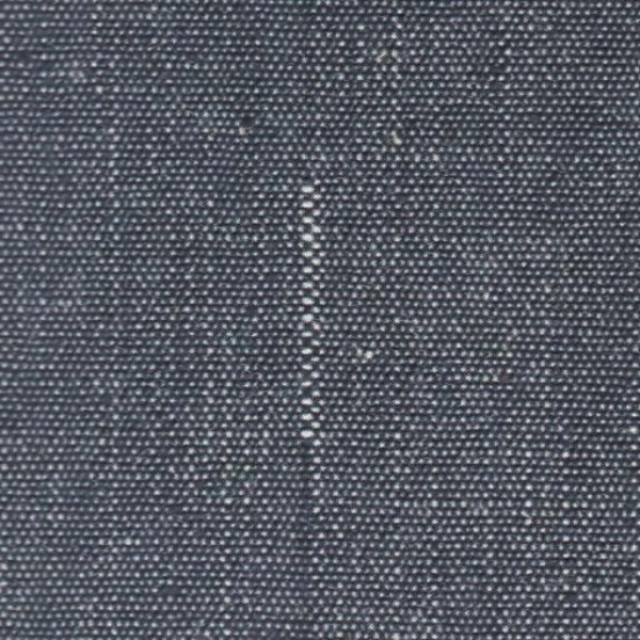Thread_other: (166, 20, 462, 550)
